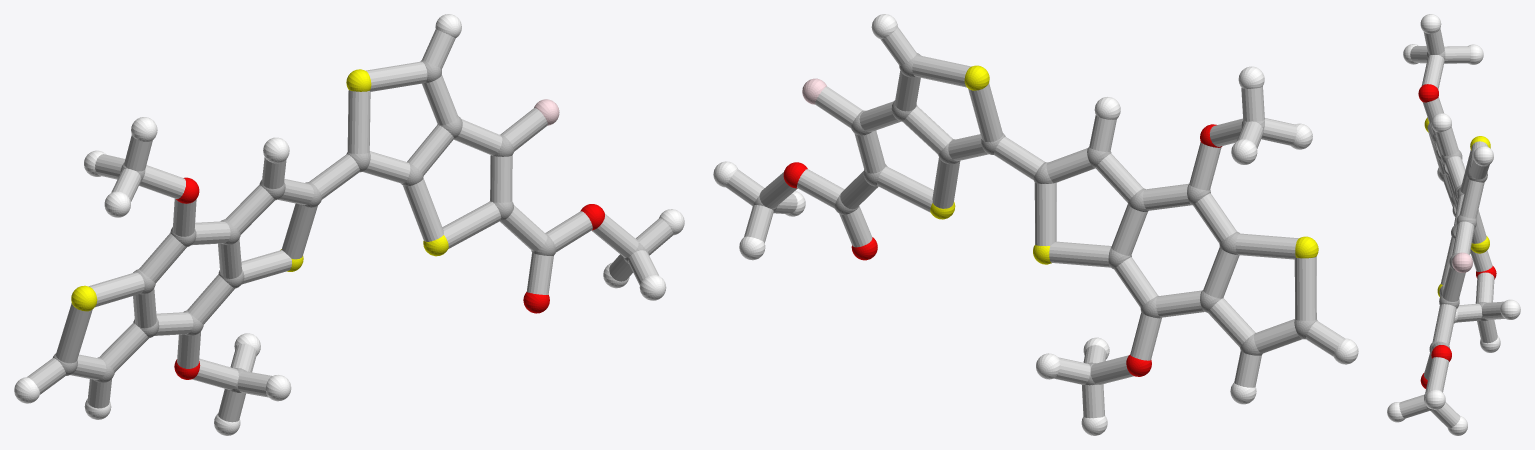
The model's file is color.glb.
The picture shows the model from 3 angles, left to right: view 1: azimuth 30°, elevation 25°; view 2: azimuth 150°, elevation 25°; view 3: azimuth 270°, elevation 25°; orthographic projection. The views are drawn at different scales.
Parts seen in each view (by area): view 1: grp15205, grp8689, grp1, grp7241, grp13395; view 2: grp15205, grp8689, grp1, grp7241, grp13395; view 3: grp15205, grp8689, grp1, grp13395, grp7241, grp14843.
Boxes of the visible parts, x1=… form: grp15205: x1=27, y1=29, x2=673, y2=422; grp8689: x1=14, y1=14, x2=684, y2=435; grp1: x1=53, y1=60, x2=646, y2=392; grp7241: x1=71, y1=69, x2=448, y2=311; grp13395: x1=174, y1=177, x2=604, y2=379; grp15205: x1=726, y1=27, x2=1344, y2=418; grp8689: x1=713, y1=14, x2=1358, y2=435; grp1: x1=753, y1=53, x2=1317, y2=385; grp7241: x1=930, y1=65, x2=1318, y2=264; grp13395: x1=783, y1=124, x2=1222, y2=376; grp15205: x1=1399, y1=28, x2=1505, y2=428; grp8689: x1=1387, y1=14, x2=1520, y2=435; grp1: x1=1424, y1=50, x2=1487, y2=410; grp13395: x1=1418, y1=84, x2=1496, y2=388; grp7241: x1=1424, y1=117, x2=1490, y2=296; grp14843: x1=1452, y1=252, x2=1472, y2=272.
Bounding box in the file's own units: 17.18 × 9.32 × 3.88.
